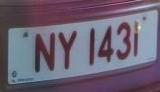1: (85, 23, 99, 73), (128, 18, 143, 64)
3: (115, 19, 133, 65)
4: (96, 22, 116, 70)
N: (31, 29, 59, 75)
Y: (57, 28, 81, 75)
